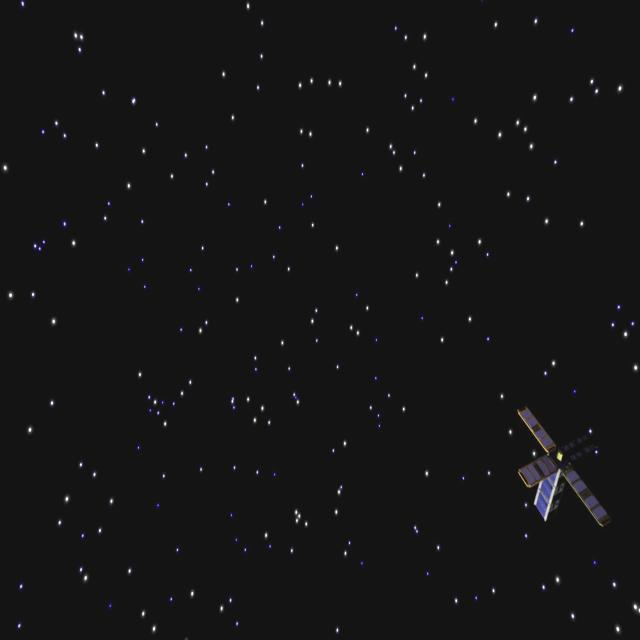medium_debris: (506, 405, 606, 533)
